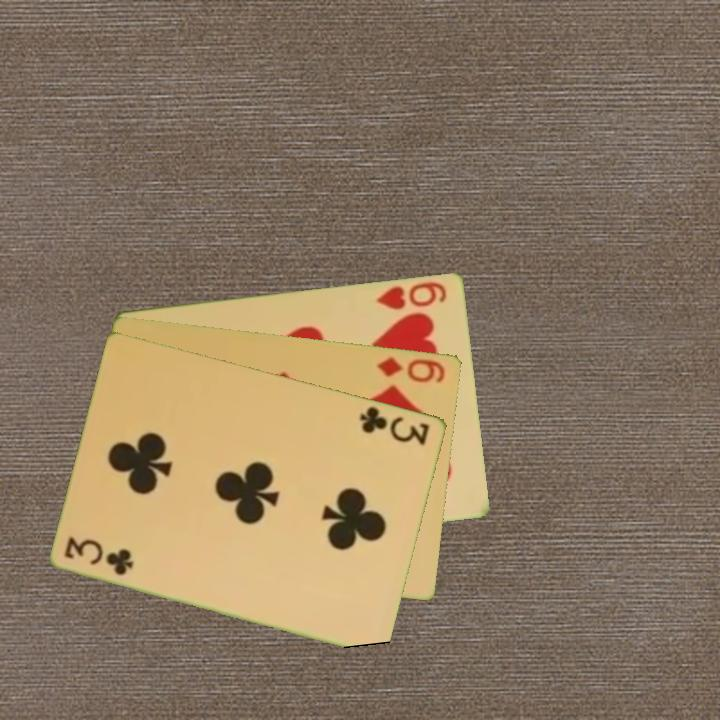3c: (356, 402, 433, 448), (60, 535, 137, 578)
6d: (373, 353, 448, 385)
6h: (373, 277, 450, 312)
